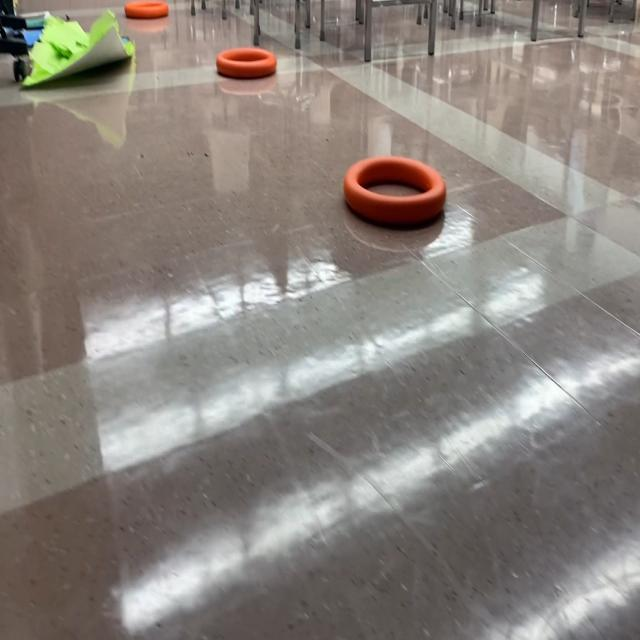note: (344, 152, 448, 227), (215, 44, 278, 80), (124, 0, 171, 20)
